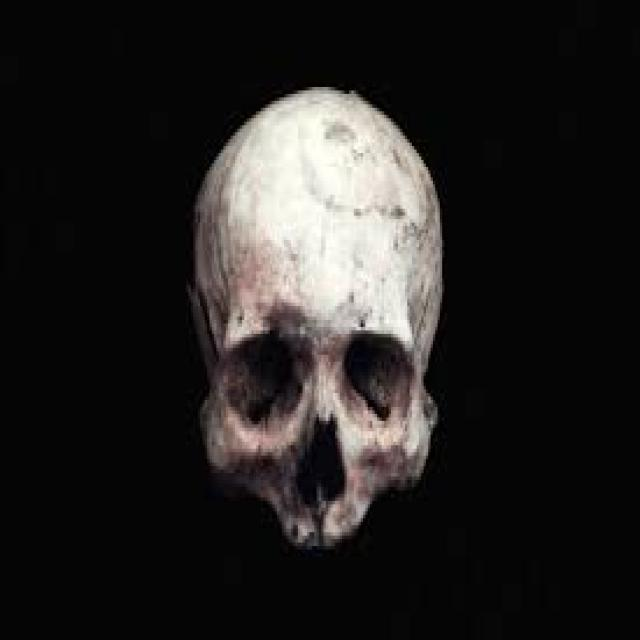skull: (185, 59, 452, 562)
